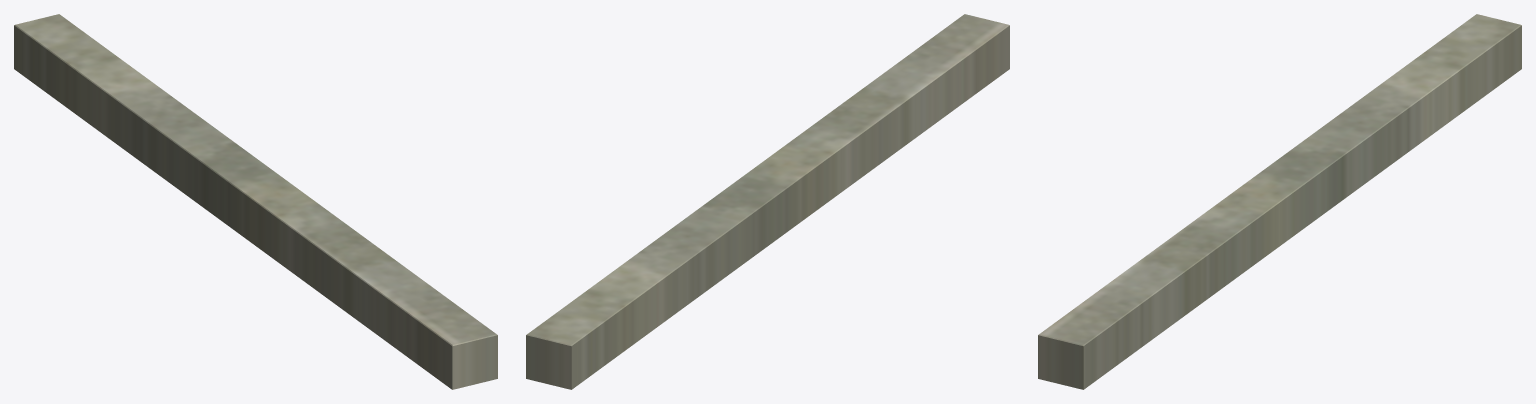
The model's file is f03-t-stone-edge-east.glb.
3 renders of one model, left to right at view 1: azimuth 30°, elevation 25°; view 2: azimuth 150°, elevation 25°; view 3: azimuth 330°, elevation 25°, orthographic.
Visible parts, largest first — view 1: f03-t-stone-edge-east; view 2: f03-t-stone-edge-east; view 3: f03-t-stone-edge-east.
Part boxes in pixels (<box>): f03-t-stone-edge-east: <box>14,14,497,389</box>; f03-t-stone-edge-east: <box>526,14,1009,389</box>; f03-t-stone-edge-east: <box>1038,14,1521,389</box>.
Bounding box in the file's own units: 0.06 × 0.056 × 1.
1 material, 1 textured.
